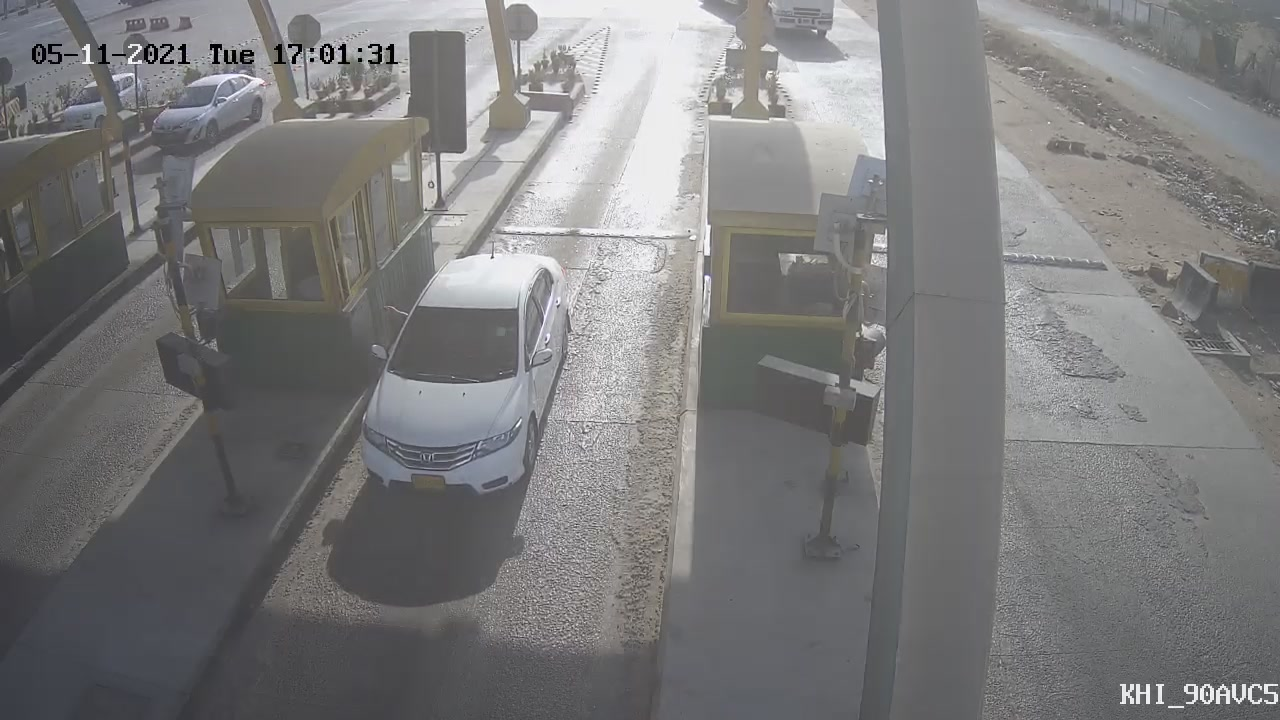F1: (329, 231, 598, 526)
